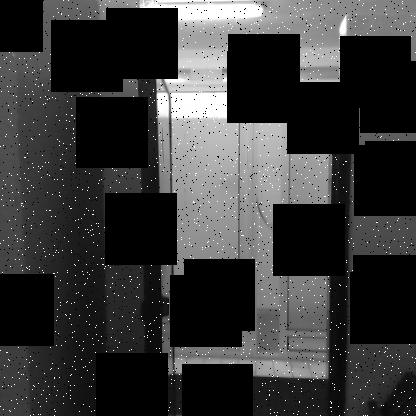Porte: (134, 50, 356, 415)
